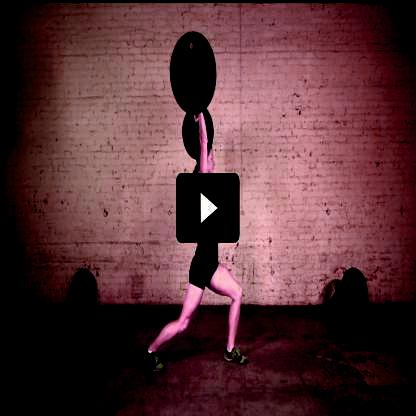Barbell: (183, 36, 206, 85)
